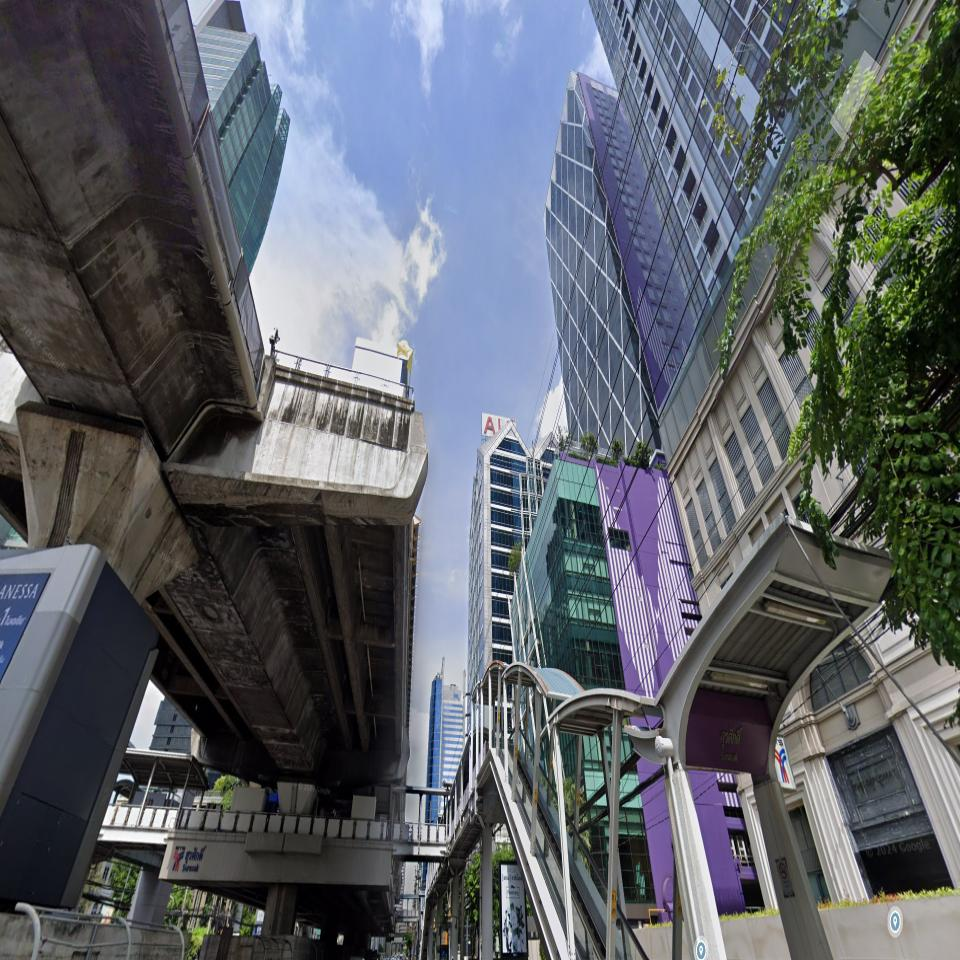Surasak: (687, 710, 797, 790), (685, 710, 771, 774), (172, 843, 207, 874), (181, 844, 207, 874)
